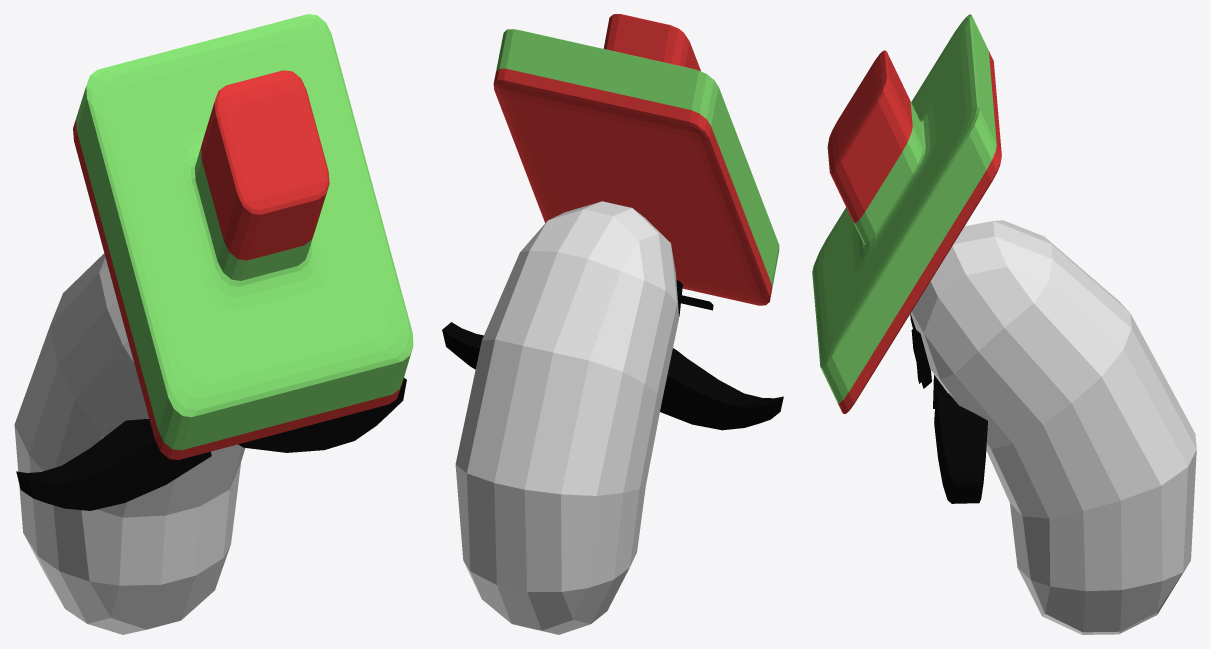
File: mexican man lov poly.fbx
3 renders of one model, left to right at view 1: azimuth 30°, elevation 25°; view 2: azimuth 150°, elevation 25°; view 3: azimuth 270°, elevation 25°, orthographic. The views are drawn at different scales.
Parts seen in each view (by area): view 1: Cube.015, Cube.014, Cube.026; view 2: Cube.014, Cube.015, Cube.026; view 3: Cube.014, Cube.015, Cube.026, Cube.027.
Part boxes in pixels (left/top/right/bottom): Cube.015: left=73, top=14, right=413, bottom=459; Cube.014: left=14, top=253, right=245, bottom=634; Cube.026: left=16, top=378, right=406, bottom=510; Cube.014: left=455, top=201, right=678, bottom=634; Cube.015: left=493, top=14, right=779, bottom=305; Cube.026: left=442, top=322, right=783, bottom=430; Cube.014: left=910, top=220, right=1196, bottom=634; Cube.015: left=812, top=14, right=1001, bottom=414; Cube.026: left=933, top=375, right=987, bottom=503; Cube.027: left=910, top=314, right=931, bottom=388.
Size of the model in its own units: 242 by 377 by 232.
